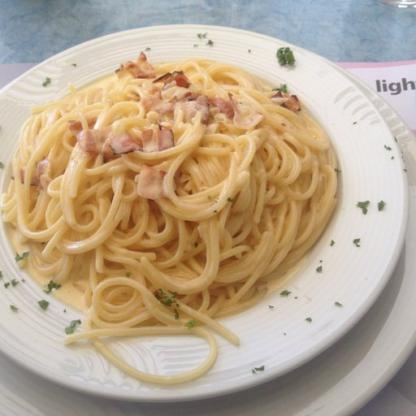Noodles: (2, 58, 338, 382)
